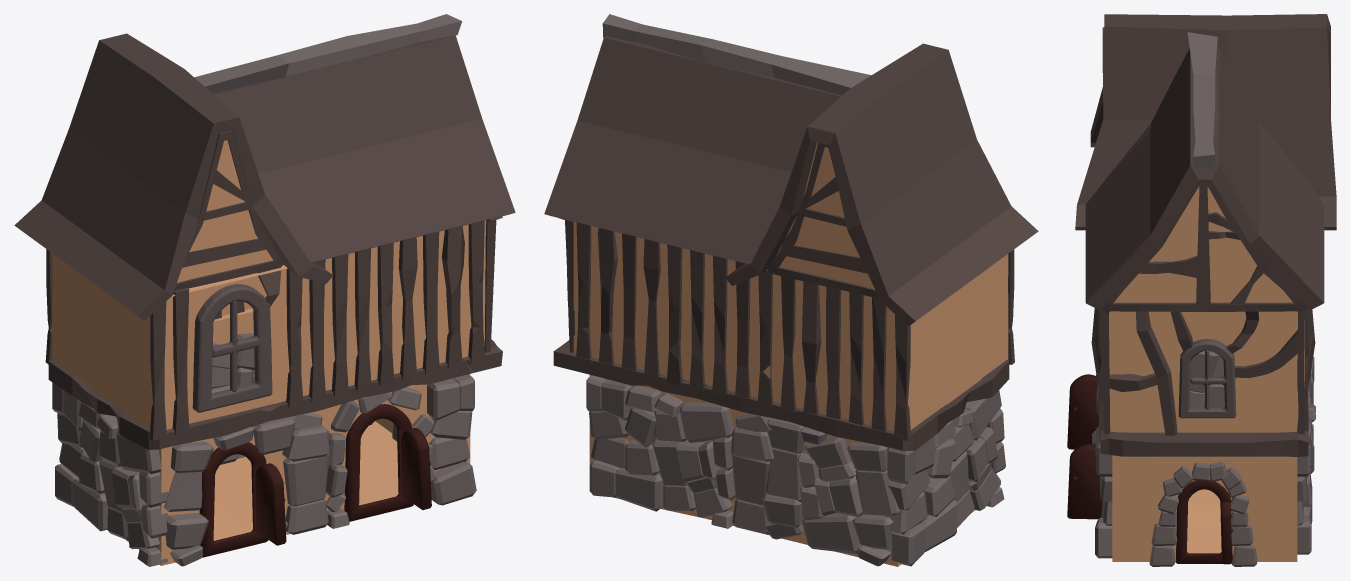
Rendered from gare-eglise.glb.
The picture shows the model from 3 angles, left to right: view 1: azimuth 30°, elevation 25°; view 2: azimuth 150°, elevation 25°; view 3: azimuth 270°, elevation 25°; orthographic projection. The views are drawn at different scales.
Parts seen in each view (by area): view 1: Wood Frame.003, Building_1; view 2: Wood Frame.003, Building_1; view 3: Wood Frame.003, Building_1.
Boxes of the visible parts, left/top/right/bottom form: Wood Frame.003: left=14, top=33, right=515, bottom=557; Building_1: left=51, top=14, right=486, bottom=566; Wood Frame.003: left=544, top=36, right=1038, bottom=450; Building_1: left=573, top=14, right=1008, bottom=566; Wood Frame.003: left=1067, top=14, right=1336, bottom=564; Building_1: left=1092, top=32, right=1315, bottom=566.
Bounding box in the file's own units: 52.27 × 57.92 × 33.09.
2 materials, 2 textured.
